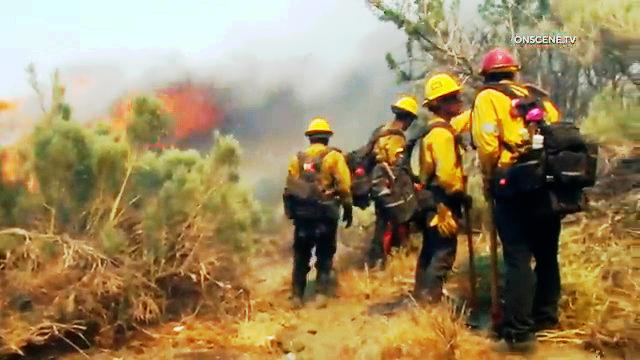smoke: (148, 28, 338, 102)
